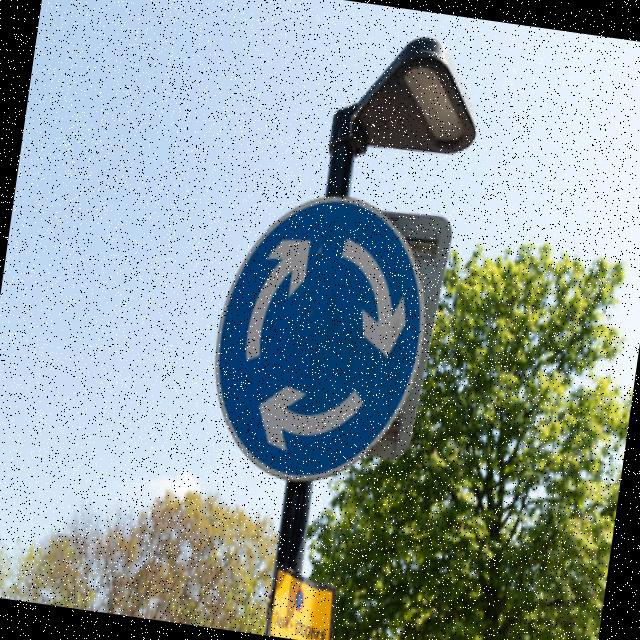round_about: (197, 178, 444, 501)
